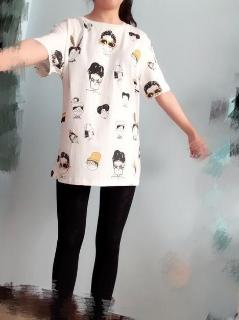short sleeve dress: (32, 15, 172, 187)
trousers: (51, 143, 138, 319)
